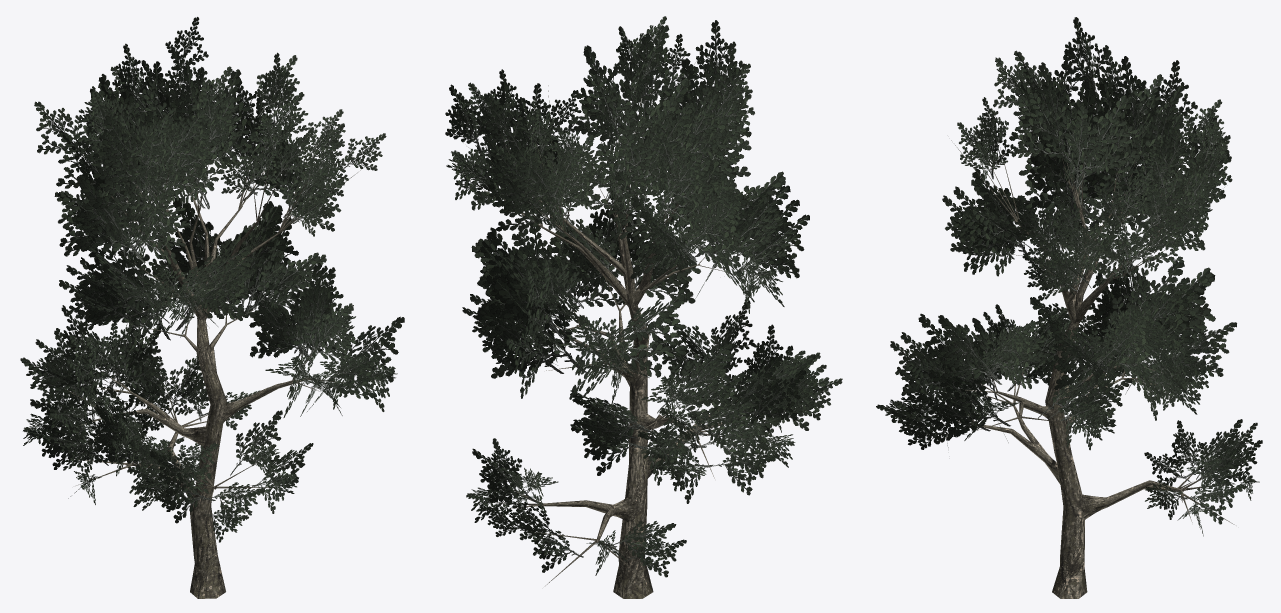
The model's file is SM_EC_Tree_Oak_03.fbx.
3 views of the same model, side by side, from view 1: azimuth 30°, elevation 25°; view 2: azimuth 150°, elevation 25°; view 3: azimuth 270°, elevation 25° (orthographic). The views are drawn at different scales.
Parts seen in each view (by area): view 1: SM_EC_Tree_Oak_03; view 2: SM_EC_Tree_Oak_03; view 3: SM_EC_Tree_Oak_03.
Part boxes in pixels (left/top/right/bottom): SM_EC_Tree_Oak_03: left=20, top=17, right=404, bottom=598; SM_EC_Tree_Oak_03: left=445, top=16, right=842, bottom=598; SM_EC_Tree_Oak_03: left=876, top=17, right=1262, bottom=598.
Bounding box in the file's own units: 5.5 × 5.55 × 8.18.
